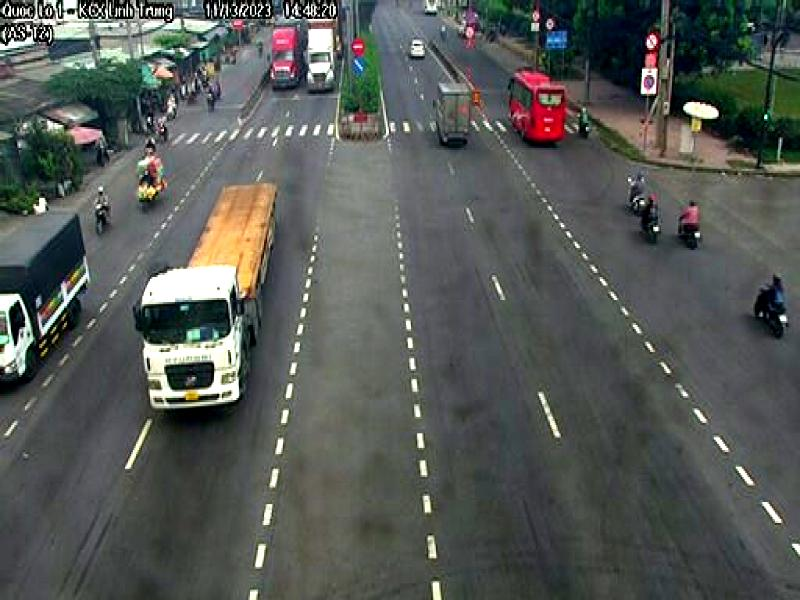truck: (138, 263, 259, 416), (0, 206, 92, 391)
